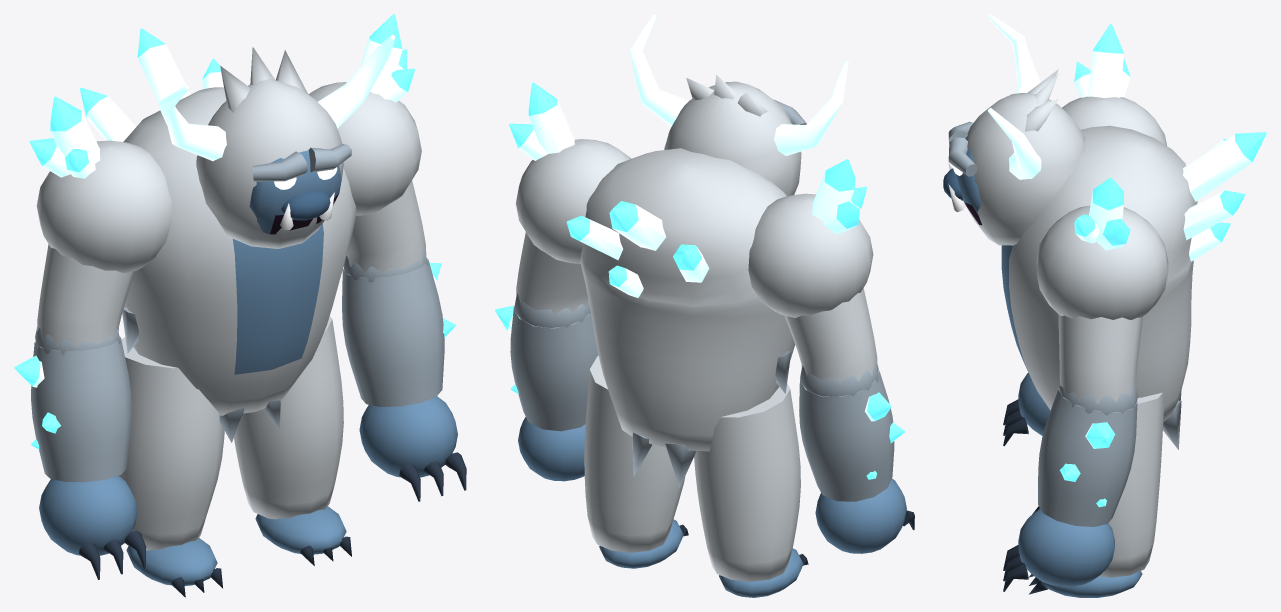
File: yeti.glb
3 views of the same model, side by side, from view 1: azimuth 30°, elevation 25°; view 2: azimuth 150°, elevation 25°; view 3: azimuth 270°, elevation 25° (orthographic). The views are drawn at different scales.
Visible parts, largest first — view 1: Torso, LegR_Mesh, LegL_Mesh, ArmR_Shoulder, ArmL_Fore, HeadMesh, ArmR_Fore, ArmL_Shoulder, ArmR_Upper, ArmR_Hand, ArmL_Hand, ArmL_Upper (+18 smaller); view 2: Torso, LegR_Mesh, ArmR_Shoulder, LegL_Mesh, ArmR_Fore, ArmL_Fore, HeadMesh, ArmL_Shoulder, ArmR_Upper, ArmR_Hand, ArmL_Upper, ArmL_Hand (+15 smaller); view 3: Torso, ArmL_Shoulder, HeadMesh, ArmL_Fore, ArmL_Upper, LegL_Mesh, ArmL_Hand, BackIce0, ArmR_Shoulder, ArmR_ShoulderIce0, BackIce1, HornL (+14 smaller).
Boxes of the visible parts, <box> form: Torso: <box>123,87,356,415</box>; LegR_Mesh: <box>119,337,224,550</box>; LegL_Mesh: <box>234,316,343,519</box>; ArmR_Shoulder: <box>36,140,172,272</box>; ArmL_Fore: <box>342,258,444,406</box>; HeadMesh: <box>196,78,343,248</box>; ArmR_Fore: <box>31,336,131,482</box>; ArmL_Shoulder: <box>308,82,421,215</box>; ArmR_Upper: <box>37,244,134,347</box>; ArmR_Hand: <box>39,475,137,555</box>; ArmL_Hand: <box>359,396,457,477</box>; ArmL_Upper: <box>346,180,426,274</box>; Torso: <box>580,148,795,451</box>; LegR_Mesh: <box>694,383,800,581</box>; ArmR_Shoulder: <box>748,193,873,317</box>; LegL_Mesh: <box>584,355,685,552</box>; ArmR_Fore: <box>799,369,894,501</box>; ArmL_Fore: <box>510,306,598,431</box>; HeadMesh: <box>664,81,801,195</box>; ArmL_Shoulder: <box>516,139,631,263</box>; ArmR_Upper: <box>784,288,877,383</box>; ArmR_Hand: <box>815,478,906,553</box>; ArmL_Upper: <box>516,232,588,314</box>; ArmL_Hand: <box>518,417,585,481</box>; Torso: <box>1001,125,1197,421</box>; ArmL_Shoulder: <box>1036,205,1168,319</box>; HeadMesh: <box>965,93,1085,245</box>; ArmL_Fore: <box>1038,388,1137,526</box>; ArmL_Upper: <box>1058,314,1143,404</box>; LegL_Mesh: <box>1099,392,1164,577</box>; ArmL_Hand: <box>1018,509,1114,586</box>; BackIce0: <box>1183,132,1266,201</box>; ArmR_Shoulder: <box>1062,96,1166,145</box>; ArmR_ShoulderIce0: <box>1088,24,1123,97</box>; BackIce1: <box>1183,190,1245,240</box>; HornL: <box>987,107,1041,179</box>.
Size of the model in its own units: 2.05 by 2.47 by 1.45.
